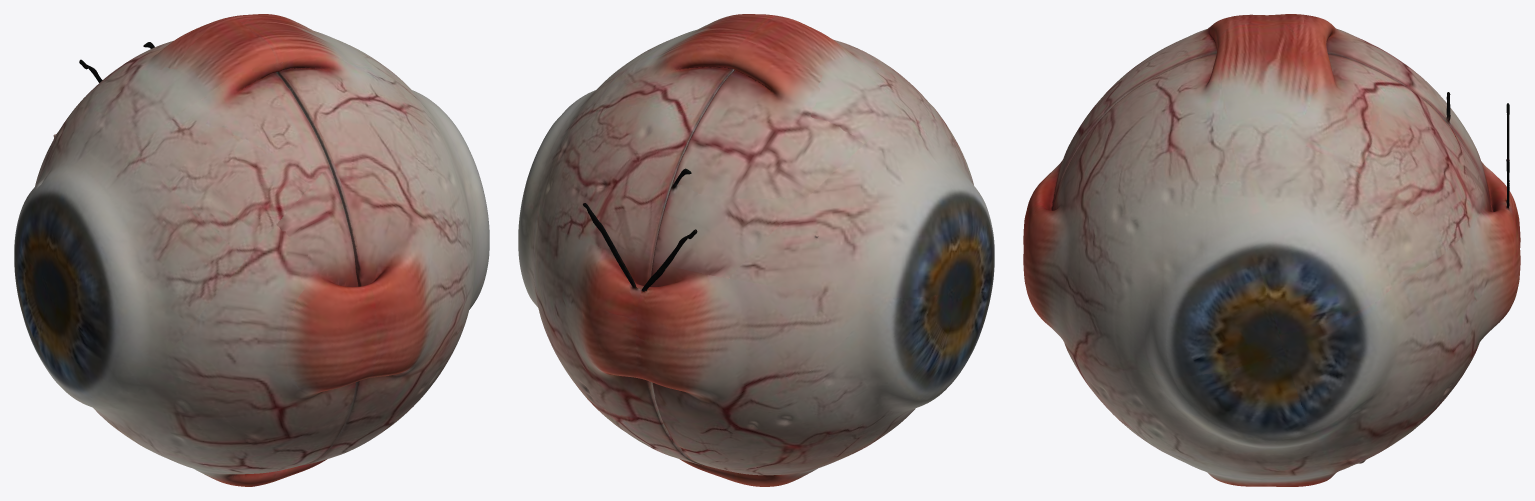
File: eyeball.glb
3 views of the same model, side by side, from view 1: azimuth 30°, elevation 25°; view 2: azimuth 150°, elevation 25°; view 3: azimuth 270°, elevation 25° (orthographic).
Visible parts, largest first — view 1: tripo_node_fd651295-700c-4d16-9ded-280f2646faf2; view 2: tripo_node_fd651295-700c-4d16-9ded-280f2646faf2; view 3: tripo_node_fd651295-700c-4d16-9ded-280f2646faf2.
Boxes of the visible parts, left/top/right/bottom form: tripo_node_fd651295-700c-4d16-9ded-280f2646faf2: left=14, top=14, right=489, bottom=486; tripo_node_fd651295-700c-4d16-9ded-280f2646faf2: left=518, top=14, right=994, bottom=486; tripo_node_fd651295-700c-4d16-9ded-280f2646faf2: left=1023, top=14, right=1520, bottom=486.
Size of the model in its own units: 0.9471 by 0.9995 by 0.9999.
Materials: 1 (1 with a texture image).
